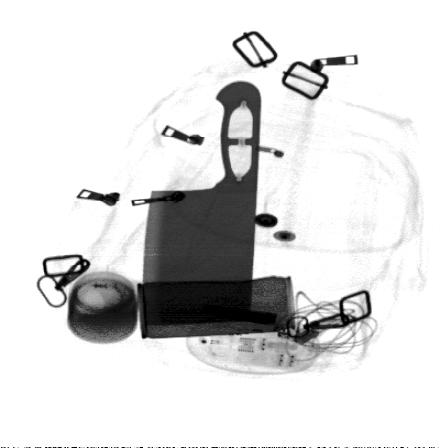Knife: (140, 80, 262, 340)
